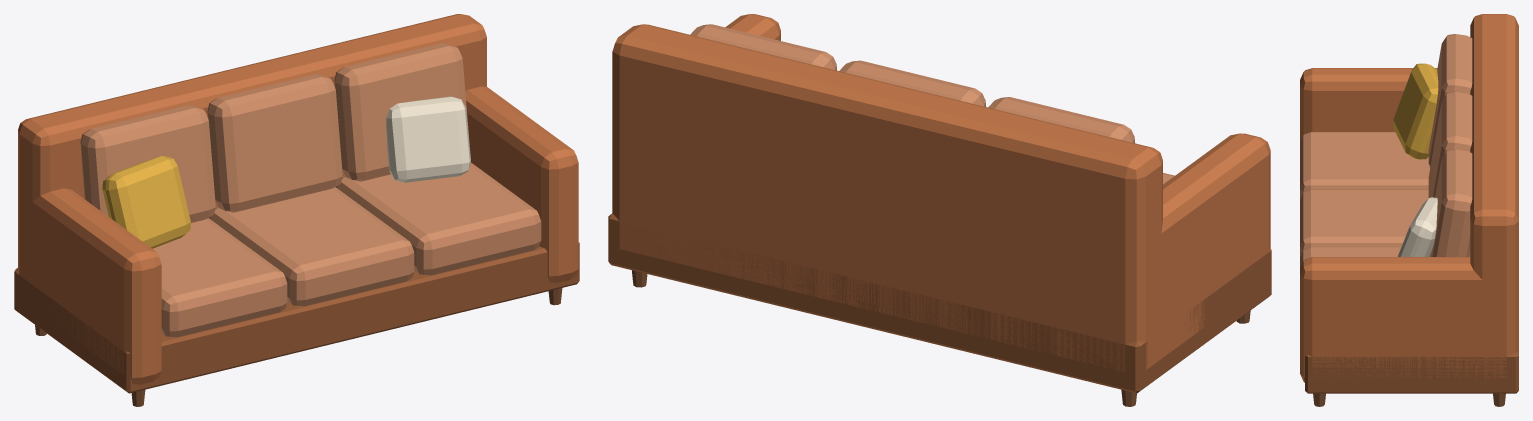
File: sofa.glb
3 views of the same model, side by side, from view 1: azimuth 30°, elevation 25°; view 2: azimuth 150°, elevation 25°; view 3: azimuth 270°, elevation 25° (orthographic). The views are drawn at different scales.
Visible parts, largest first — view 1: sofa_Body; view 2: sofa_Body; view 3: sofa_Body.
Boxes of the visible parts, <box> form: sofa_Body: <box>14,14,579,406</box>; sofa_Body: <box>608,14,1271,406</box>; sofa_Body: <box>1300,14,1518,406</box>.
Size of the model in its own units: 2 by 0.9 by 0.9.
